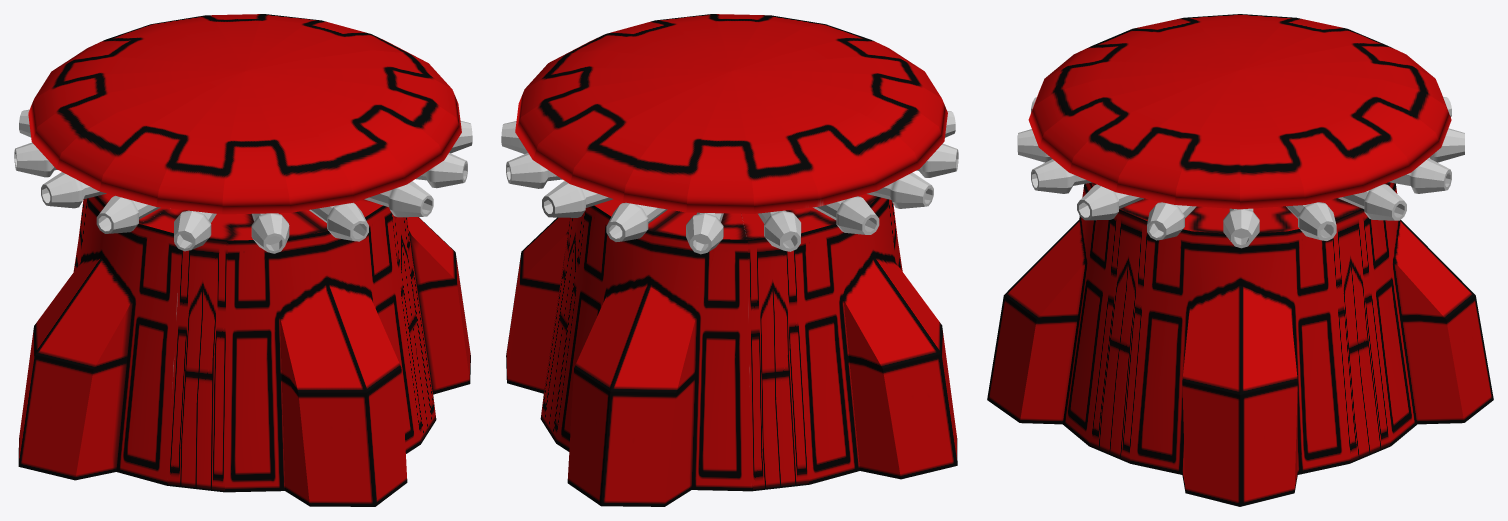
The model's file is directional16.fbx.
3 views of the same model, side by side, from view 1: azimuth 30°, elevation 25°; view 2: azimuth 150°, elevation 25°; view 3: azimuth 270°, elevation 25° (orthographic). The views are drawn at different scales.
Visible parts, largest first — view 1: Directional_Turret_Base1; view 2: Directional_Turret_Base1; view 3: Directional_Turret_Base1.
Part boxes in pixels (box(x1,y1,x2,y2)): Directional_Turret_Base1: box(14, 14, 472, 506); Directional_Turret_Base1: box(501, 14, 958, 506); Directional_Turret_Base1: box(987, 14, 1493, 506).
Bounding box in the file's own units: 3.99 × 2.87 × 3.99.
Materials: 3 (1 with a texture image).
